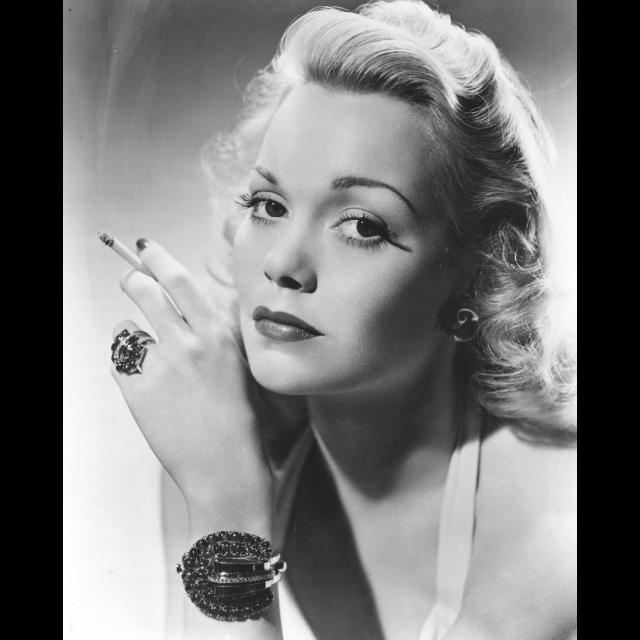rokok: (93, 229, 145, 271)
